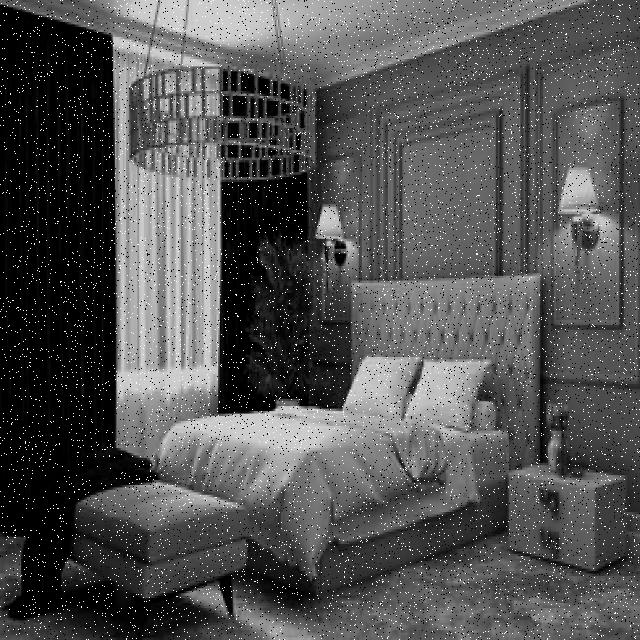bed: (154, 342, 514, 560)
